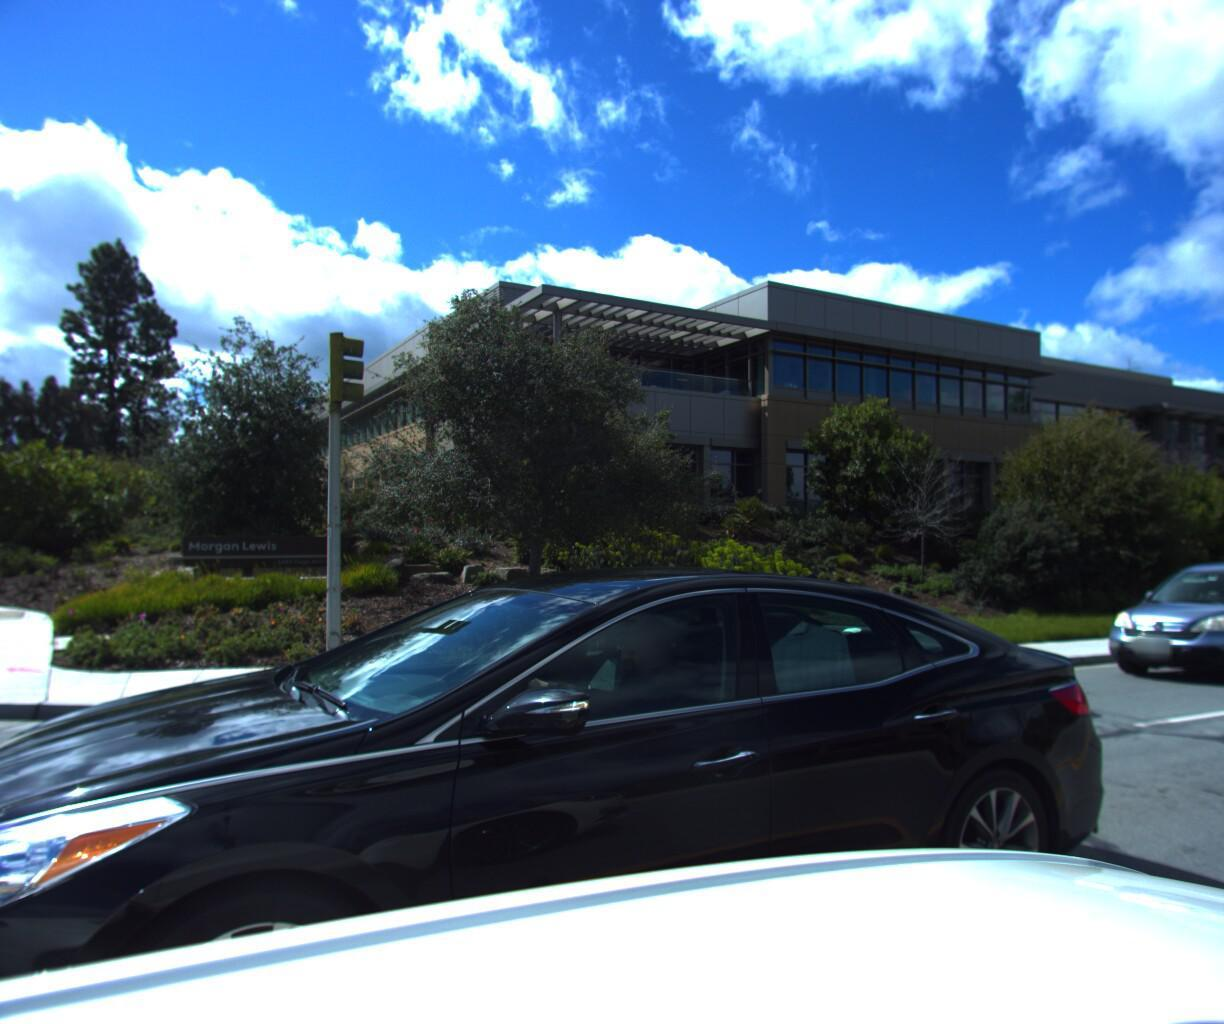car: (0, 535, 1162, 1024), (1078, 559, 1224, 700)
